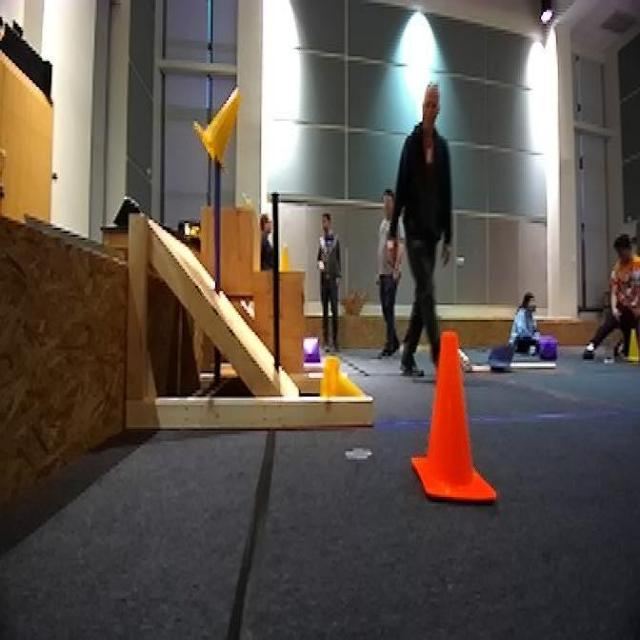frc_cone: (189, 87, 242, 172), (317, 351, 365, 398), (624, 325, 638, 366), (281, 242, 292, 272)
frc_cube: (532, 333, 558, 362), (303, 335, 320, 368)
